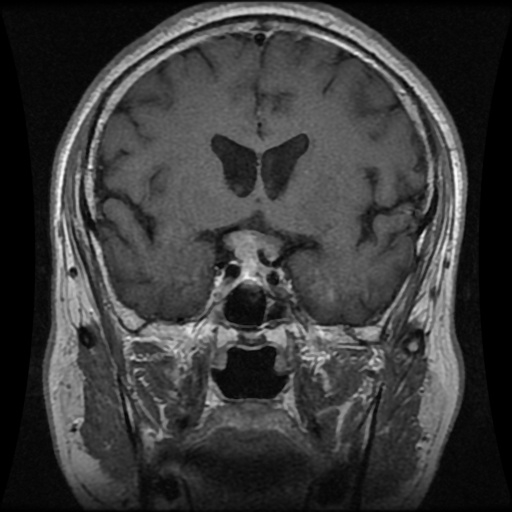pituitary: (211, 225, 288, 299)
